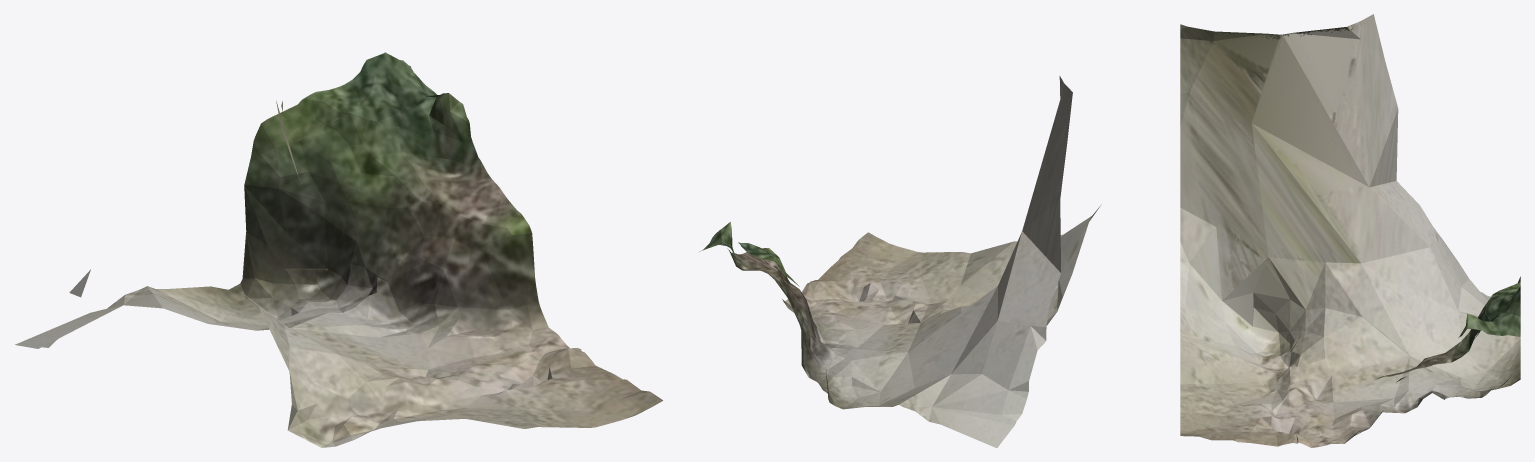
3 views of the same model, side by side, from view 1: azimuth 30°, elevation 25°; view 2: azimuth 150°, elevation 25°; view 3: azimuth 270°, elevation 25° (orthographic). The views are drawn at different scales.
Bounding box in the file's own units: 5.9 × 5.72 × 5.9.
Materials: 4 (4 with a texture image).
